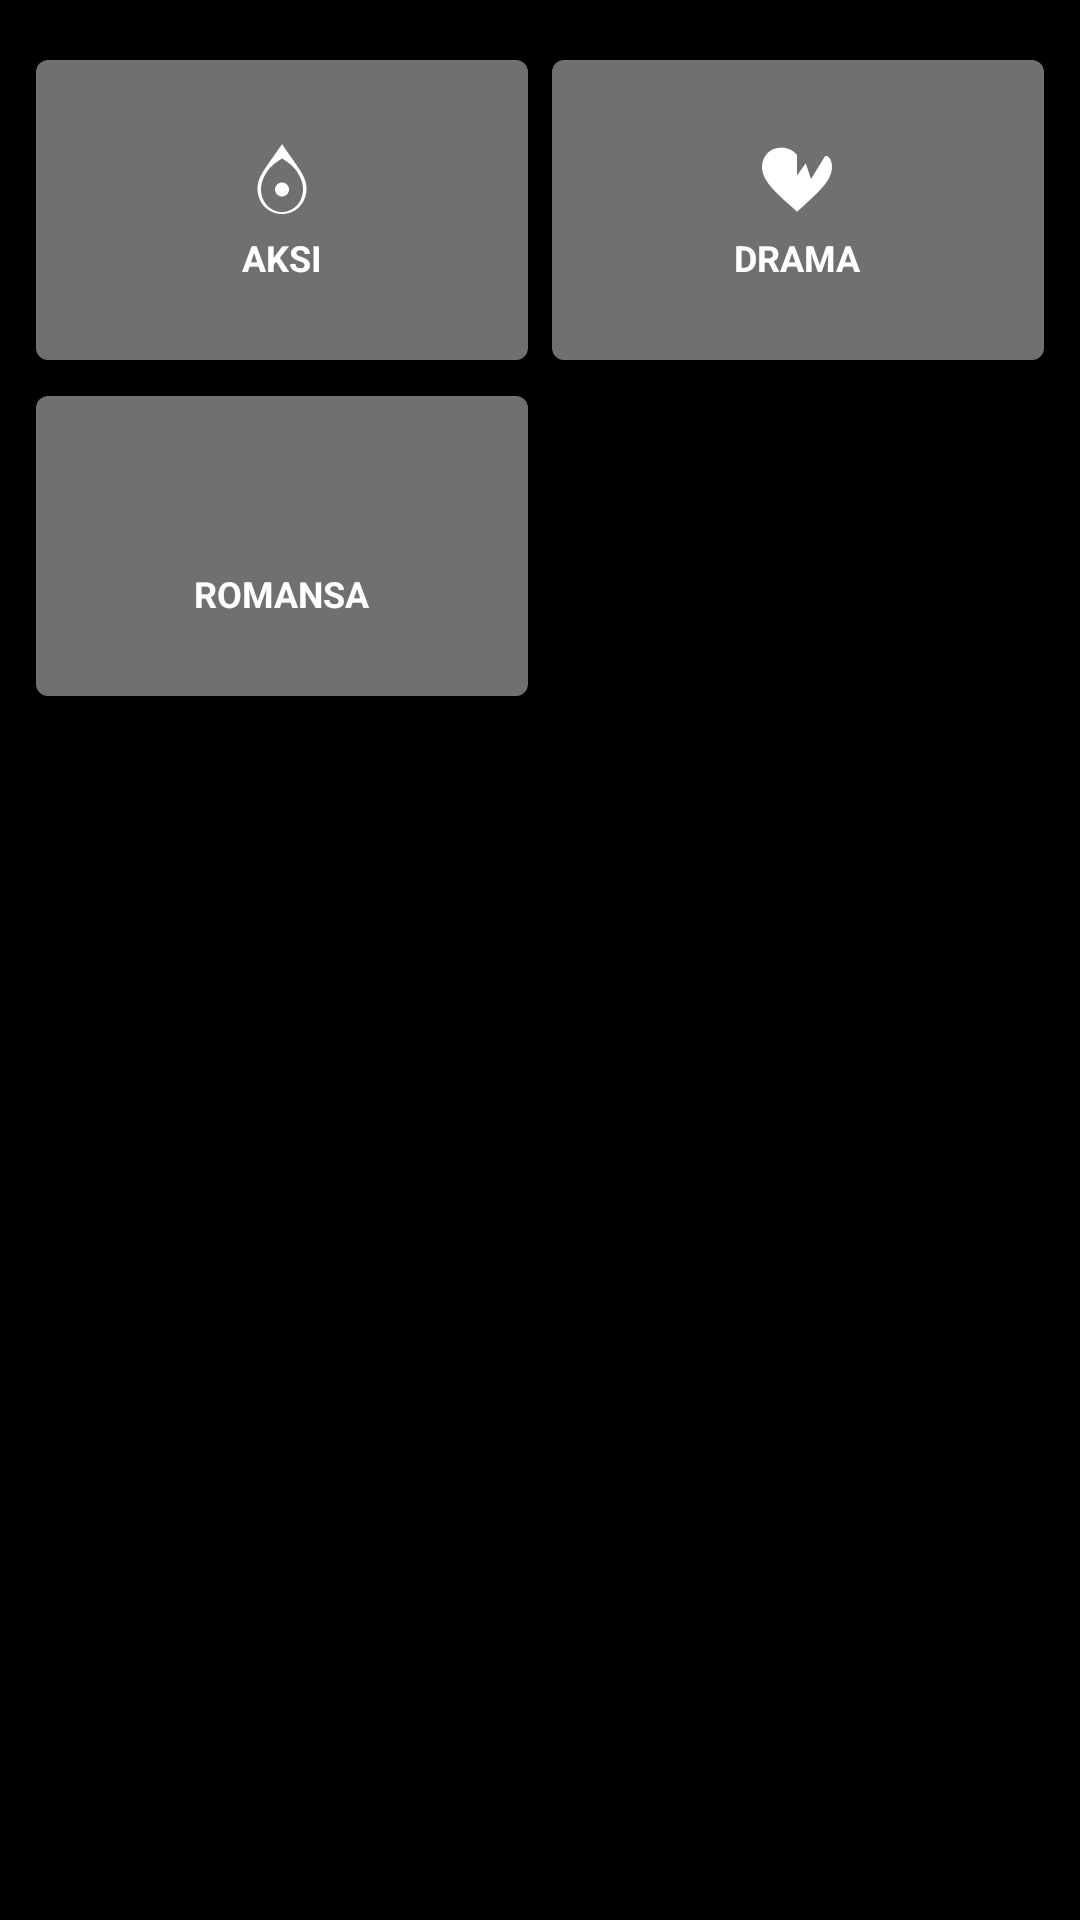

Where to tap for icons on this 1080 × 1920 app screen, as (x=x, y=y):
broken heart: (x=797, y=179)
